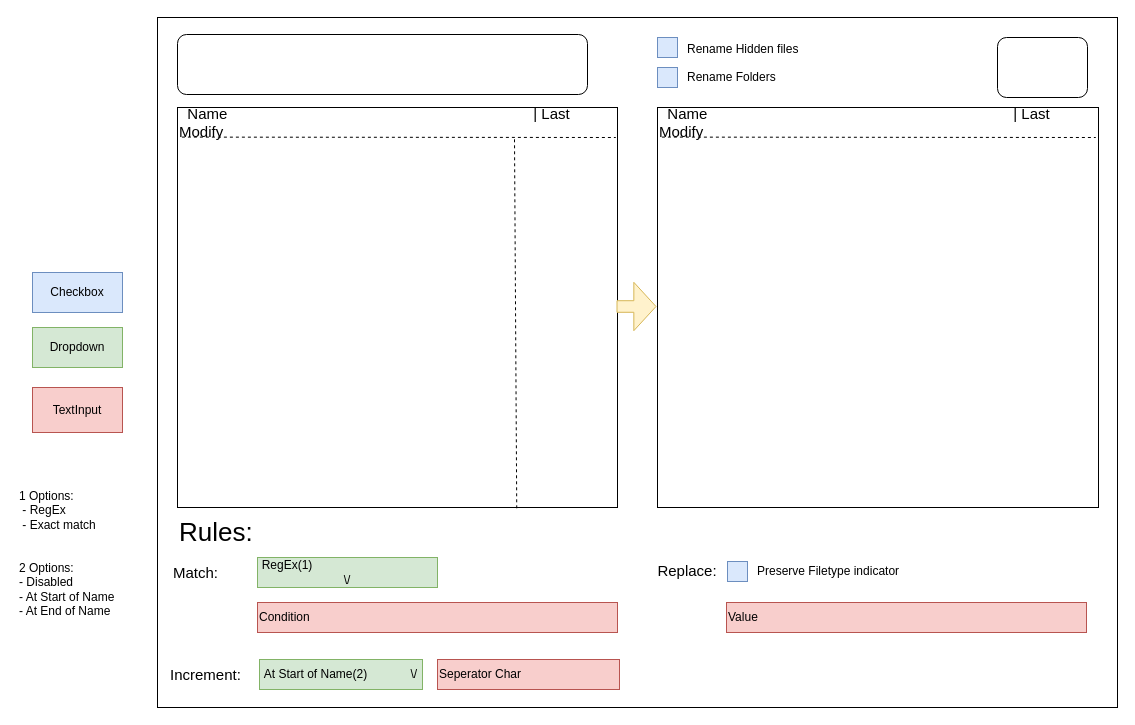
Some shapes in this 1135 by 725 pixel diagram are drawn without their labels. Each missing label, with the centre of its shape:
<n> Files <d> Changes: [1042,67]
Oped Folder/Choose Folder: [382,64]
